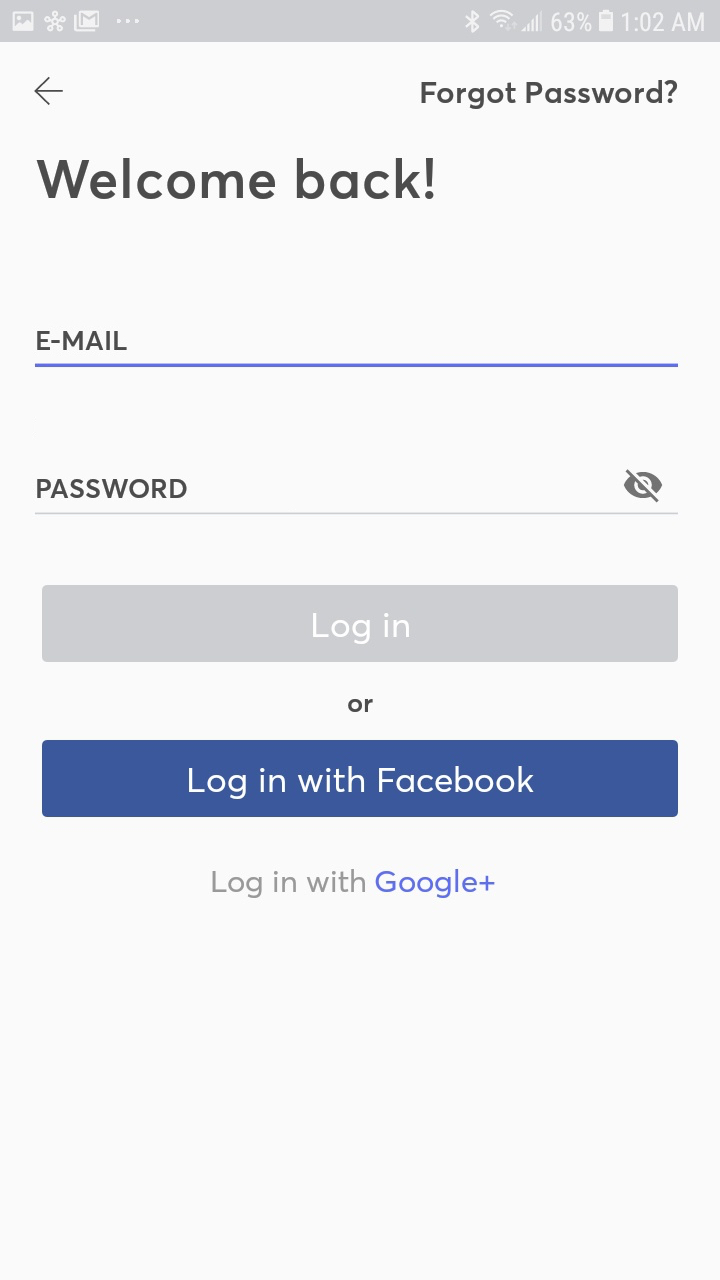EditText: (36, 469, 678, 515), (35, 331, 679, 368)
Icon: (623, 469, 663, 504), (34, 77, 65, 107)
Text: (37, 158, 435, 201), (212, 869, 495, 899), (421, 80, 678, 110), (348, 699, 374, 713)
TextButton: (42, 740, 678, 818), (43, 585, 678, 663)
UpperTaskBar: (1, 1, 720, 43)
